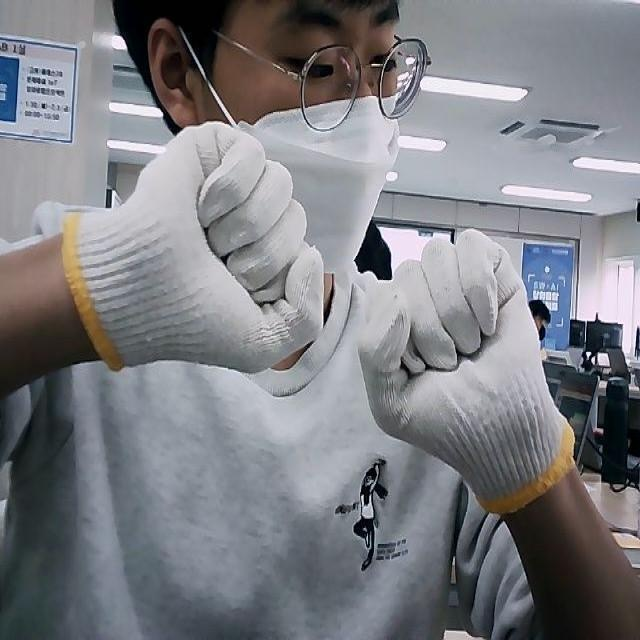Guantes: (62, 121, 327, 369), (362, 230, 576, 508)
